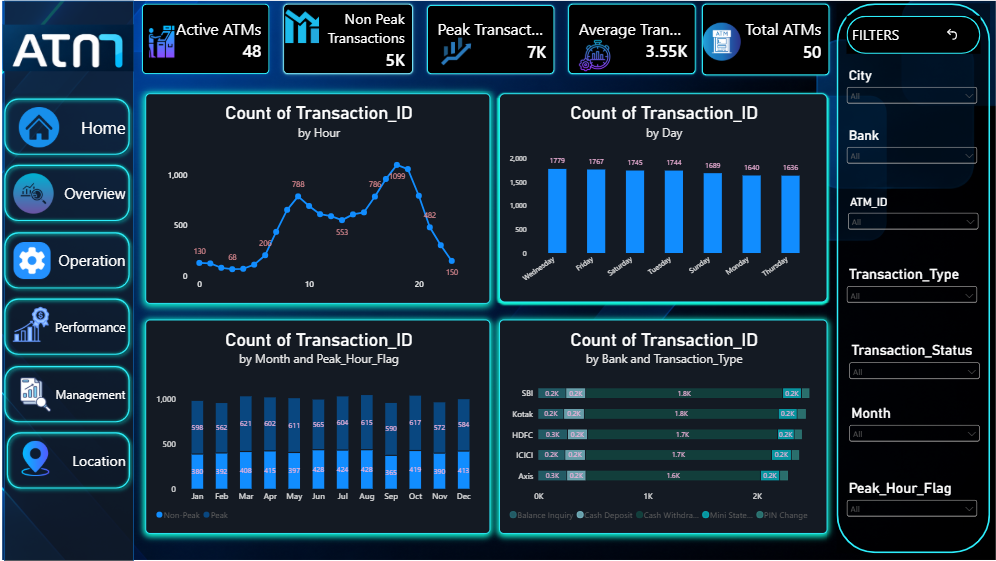

Layout of this report page (visuals, bound fields, positions):
{"tool":"powerbi","page":{"name":"operation","canvas":[1920,1080],"ordinal":2},"visuals":[{"type":"cardVisual","fields":{"Data":["ATM_Master.Active ATMs"]},"box":[346.9,59,237.8,141.3],"z":0},{"type":"lineChart","fields":{"Category":["ATM_Transactions.Hour"],"Y":["CountNonNull(ATM_Transactions.Transaction_ID)"]},"box":[364.8,219.9,581.1,354],"z":1000},{"type":"shape","box":[125.2,64.4,218.1,945.9],"z":2000},{"type":"shape","box":[118,219.9,228.9,112.6],"z":3000},{"type":"image","box":[137.7,243.2,96.6,67.9],"z":4000},{"type":"shape","box":[118,332.6,228.9,112.6],"z":5000},{"type":"image","box":[101.9,355.8,150.2,67.9],"z":6000},{"type":"shape","box":[118,445.2,228.9,112.6],"z":7000},{"type":"image","box":[125.2,470.3,94.8,62.6],"z":8000},{"type":"shape","box":[118,557.9,228.9,112.6],"z":9000},{"type":"image","box":[123.4,699.1,110.9,59],"z":10000},{"type":"shape","box":[118,670.5,228.9,112.6],"z":11000},{"type":"image","box":[137.7,577.5,69.7,62.6],"z":12000},{"type":"shape","box":[121.6,783.2,225.3,112.6],"z":13000},{"type":"image","box":[128.7,801,101.9,67.9],"z":14000},{"type":"image","box":[363,64.4,55.4,137.7],"z":15000},{"type":"image","box":[123.4,69.7,219.9,150.2],"z":16000},{"type":"columnChart","fields":{"Category":["ATM_Transactions.Day"],"Y":["CountNonNull(ATM_Transactions.Transaction_ID)"]},"box":[960.2,219.9,552.5,352.2],"z":17000},{"type":"cardVisual","fields":{"Data":["ATM_Master.Non Peak Transactions"]},"box":[584.7,59,241.4,141.3],"z":18000},{"type":"cardVisual","fields":{"Data":["ATM_Master.Peak Transactions"]},"box":[826.1,60.8,237.8,139.5],"z":19000},{"type":"image","box":[856.1,122,61,56.8],"z":20000},{"type":"image","box":[599.5,65.2,56.8,86.2],"z":21000},{"type":"cardVisual","fields":{"Data":["ATM_Master.Average Transaction Amount"]},"box":[1063.9,59,237.8,141.3],"z":22000},{"type":"image","box":[1087.5,130.4,65.2,54.7],"z":23000},{"type":"cardVisual","fields":{"Data":["ATM_Master.Total ATMs"]},"box":[1289.2,59,237.8,143],"z":24000},{"type":"image","box":[1302,82,64.4,103.7],"z":25000},{"type":"columnChart","fields":{"Category":["ATM_Transactions.Month"],"Series":["ATM_Transactions.Peak_Hour_Flag"],"Y":["CountNonNull(ATM_Transactions.Transaction_ID)"]},"box":[363,602.6,581.1,361.2],"z":26000},{"type":"barChart","fields":{"Category":["ATM_Transactions.Bank"],"Series":["ATM_Transactions.Transaction_Type"],"Y":["CountNonNull(ATM_Transactions.Transaction_ID)"]},"box":[960.2,602.6,552.5,361.2],"z":27000},{"type":"shape","box":[1527.1,69.4,258.7,925.5],"z":28000},{"type":"slicer","fields":{"Values":["ATM_Transactions.Bank"]},"box":[1539.5,277.1,228.9,125.2],"z":29000},{"type":"slicer","fields":{"Values":["ATM_Master.ATM_ID"]},"box":[1541.3,393.4,228.9,109.1],"z":30000},{"type":"slicer","fields":{"Values":["ATM_Master.City"]},"box":[1539.5,177,228.9,121.6],"z":31000},{"type":"slicer","fields":{"Values":["ATM_Transactions.Transaction_Type"]},"box":[1539.5,511.4,228.9,132.3],"z":32000},{"type":"slicer","fields":{"Values":["ATM_Transactions.Transaction_Status"]},"box":[1543.1,640.1,228.9,118],"z":33000},{"type":"slicer","fields":{"Values":["ATM_Transactions.Month"]},"box":[1543.1,745.6,228.9,109.1],"z":34000},{"type":"slicer","fields":{"Values":["ATM_Transactions.Peak_Hour_Flag"]},"box":[1539.5,870.8,228.9,123.4],"z":35000},{"type":"shape","box":[1543.1,89.4,225.3,64.4],"z":36000},{"type":"actionButton","box":[1700.4,76.9,137.7,89.4],"z":37000}]}

Visuals, with their boxes in screenshot pixels (x1, y1, x2, y2), scaled from the page's 1920x1080 canvas onto the 996x561 screenshot:
cardVisual - ATM_Master.Active ATMs: (x1=180, y1=31, x2=303, y2=104)
lineChart - ATM_Transactions.Hour x CountNonNull(ATM_Transactions.Transaction_ID): (x1=189, y1=114, x2=491, y2=298)
shape: (x1=65, y1=33, x2=178, y2=525)
shape: (x1=61, y1=114, x2=180, y2=173)
image: (x1=71, y1=126, x2=122, y2=162)
shape: (x1=61, y1=173, x2=180, y2=231)
image: (x1=53, y1=185, x2=131, y2=220)
shape: (x1=61, y1=231, x2=180, y2=290)
image: (x1=65, y1=244, x2=114, y2=277)
shape: (x1=61, y1=290, x2=180, y2=348)
image: (x1=64, y1=363, x2=122, y2=394)
shape: (x1=61, y1=348, x2=180, y2=407)
image: (x1=71, y1=300, x2=108, y2=332)
shape: (x1=63, y1=407, x2=180, y2=465)
image: (x1=67, y1=416, x2=120, y2=451)
image: (x1=188, y1=33, x2=217, y2=105)
image: (x1=64, y1=36, x2=178, y2=114)
columnChart - ATM_Transactions.Day x CountNonNull(ATM_Transactions.Transaction_ID): (x1=498, y1=114, x2=785, y2=297)
cardVisual - ATM_Master.Non Peak Transactions: (x1=303, y1=31, x2=429, y2=104)
cardVisual - ATM_Master.Peak Transactions: (x1=429, y1=32, x2=552, y2=104)
image: (x1=444, y1=63, x2=476, y2=93)
image: (x1=311, y1=34, x2=340, y2=79)
cardVisual - ATM_Master.Average Transaction Amount: (x1=552, y1=31, x2=675, y2=104)
image: (x1=564, y1=68, x2=598, y2=96)
cardVisual - ATM_Master.Total ATMs: (x1=669, y1=31, x2=792, y2=105)
image: (x1=675, y1=43, x2=709, y2=96)
columnChart - ATM_Transactions.Month x ATM_Transactions.Peak_Hour_Flag: (x1=188, y1=313, x2=490, y2=501)
barChart - ATM_Transactions.Bank x ATM_Transactions.Transaction_Type: (x1=498, y1=313, x2=785, y2=501)
shape: (x1=792, y1=36, x2=926, y2=517)
slicer - ATM_Transactions.Bank: (x1=799, y1=144, x2=917, y2=209)
slicer - ATM_Master.ATM_ID: (x1=800, y1=204, x2=918, y2=261)
slicer - ATM_Master.City: (x1=799, y1=92, x2=917, y2=155)
slicer - ATM_Transactions.Transaction_Type: (x1=799, y1=266, x2=917, y2=334)
slicer - ATM_Transactions.Transaction_Status: (x1=800, y1=332, x2=919, y2=394)
slicer - ATM_Transactions.Month: (x1=800, y1=387, x2=919, y2=444)
slicer - ATM_Transactions.Peak_Hour_Flag: (x1=799, y1=452, x2=917, y2=516)
shape: (x1=800, y1=46, x2=917, y2=80)
actionButton: (x1=882, y1=40, x2=954, y2=86)
